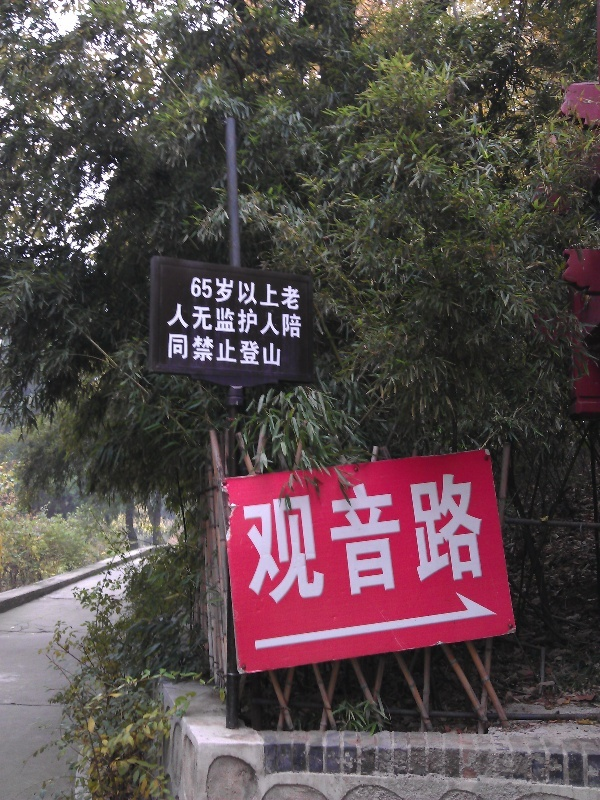text: (241, 467, 256, 608), (257, 467, 272, 608), (273, 467, 288, 608), (289, 467, 304, 608), (305, 467, 320, 608), (321, 467, 336, 608), (337, 467, 352, 608), (353, 467, 368, 608), (369, 467, 384, 608), (385, 467, 400, 608), (401, 467, 416, 608), (417, 467, 432, 608), (433, 467, 448, 608), (449, 467, 464, 608), (465, 467, 480, 608), (481, 467, 494, 608), (235, 467, 240, 608), (177, 302, 192, 339), (193, 302, 208, 339), (209, 302, 224, 339), (225, 302, 240, 339), (241, 302, 256, 339), (257, 302, 272, 339), (273, 302, 288, 339), (193, 275, 208, 311), (209, 275, 224, 311), (225, 275, 240, 311), (241, 275, 256, 311), (257, 275, 272, 311), (273, 275, 288, 311), (177, 333, 192, 369), (193, 333, 208, 369), (209, 333, 224, 369), (225, 333, 240, 369), (241, 333, 256, 369), (257, 333, 272, 369), (289, 302, 303, 339), (289, 275, 303, 311), (166, 302, 176, 339), (167, 333, 176, 369), (273, 333, 282, 369)
